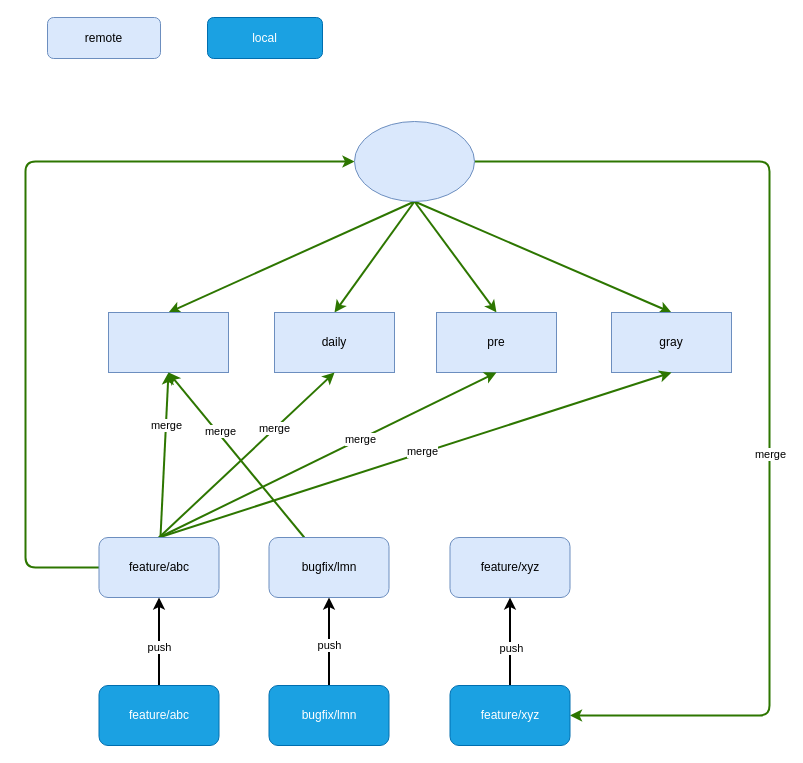
Some shapes in this 803 by 763 pixel diagram are drawn without their labels. Each missing label, with the centre of its shape:
dev: (168,342)
master: (414,161)
